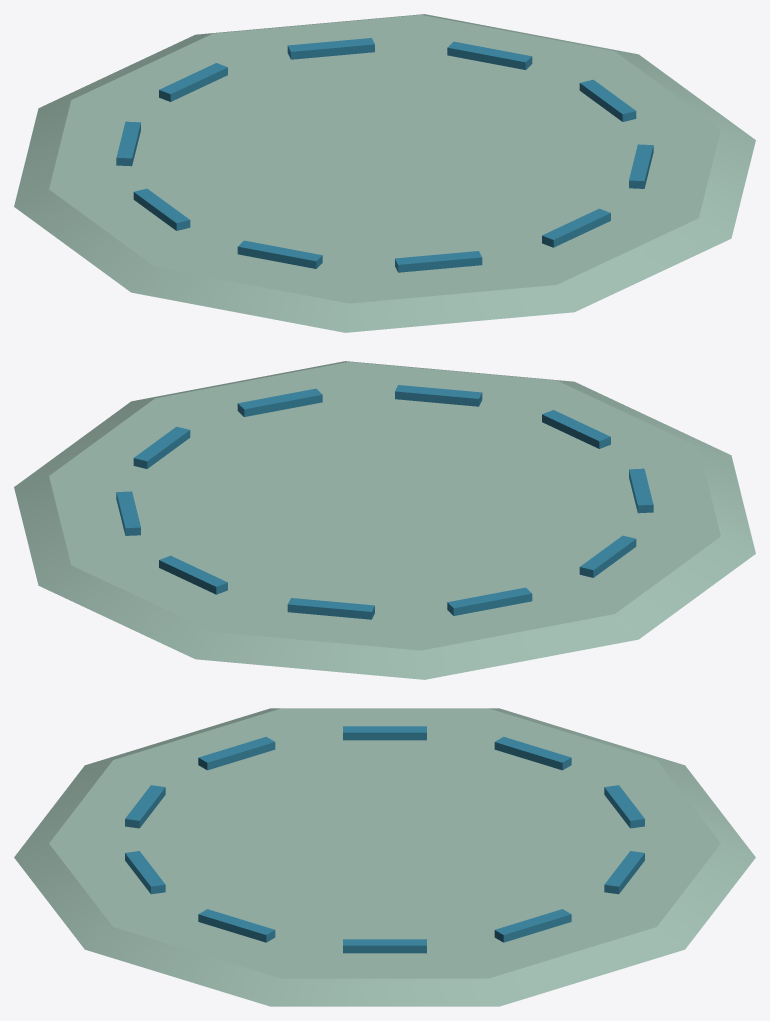
File: foundation.glb
The picture shows the model from 3 angles, top to bottom: view 1: azimuth 30°, elevation 25°; view 2: azimuth 150°, elevation 25°; view 3: azimuth 270°, elevation 25°; orthographic projection. The views are drawn at different scales.
Parts seen in each view (by area): view 1: foundation_inlay, foundation_rune_3, foundation_rune_8, foundation_rune_9, foundation_rune_4, foundation_rune_7, foundation_rune_2, foundation_rune_0, foundation_rune_5, foundation_rune_6, foundation_rune_1; view 2: foundation_inlay, foundation_rune_7, foundation_rune_2, foundation_rune_1, foundation_rune_6, foundation_rune_3, foundation_rune_8, foundation_rune_0, foundation_rune_5, foundation_rune_4, foundation_rune_9; view 3: foundation_inlay, foundation_rune_0, foundation_rune_5, foundation_rune_1, foundation_rune_9, foundation_rune_4, foundation_rune_6, foundation_rune_2, foundation_rune_8, foundation_rune_3, foundation_rune_7.
Boxes of the visible parts, <box> form: foundation_inlay: <box>14,14,755,332</box>; foundation_rune_3: <box>395,251,482,272</box>; foundation_rune_8: <box>287,38,374,59</box>; foundation_rune_9: <box>447,41,532,69</box>; foundation_rune_4: <box>237,240,322,268</box>; foundation_rune_7: <box>159,63,227,101</box>; foundation_rune_2: <box>542,208,610,247</box>; foundation_rune_0: <box>579,79,636,121</box>; foundation_rune_5: <box>133,188,190,230</box>; foundation_rune_6: <box>116,121,140,166</box>; foundation_rune_1: <box>629,144,653,188</box>; foundation_inlay: <box>14,361,755,679</box>; foundation_rune_7: <box>287,598,374,619</box>; foundation_rune_2: <box>395,385,482,406</box>; foundation_rune_1: <box>237,388,322,416</box>; foundation_rune_6: <box>447,587,532,615</box>; foundation_rune_3: <box>542,410,610,448</box>; foundation_rune_8: <box>159,555,227,594</box>; foundation_rune_0: <box>133,426,190,468</box>; foundation_rune_5: <box>579,535,636,577</box>; foundation_rune_4: <box>629,468,653,513</box>; foundation_rune_9: <box>116,491,140,535</box>; foundation_inlay: <box>14,708,755,1006</box>; foundation_rune_0: <box>343,939,426,953</box>; foundation_rune_5: <box>343,726,426,740</box>; foundation_rune_1: <box>198,909,275,942</box>; foundation_rune_9: <box>494,909,571,942</box>; foundation_rune_4: <box>198,736,275,770</box>; foundation_rune_6: <box>494,736,571,770</box>; foundation_rune_2: <box>125,851,165,894</box>; foundation_rune_8: <box>604,851,644,894</box>; foundation_rune_3: <box>125,785,165,828</box>; foundation_rune_7: <box>604,785,644,828</box>.
Size of what is drawn, in the model's own units: 10.08 by 0.34 by 10.6.
